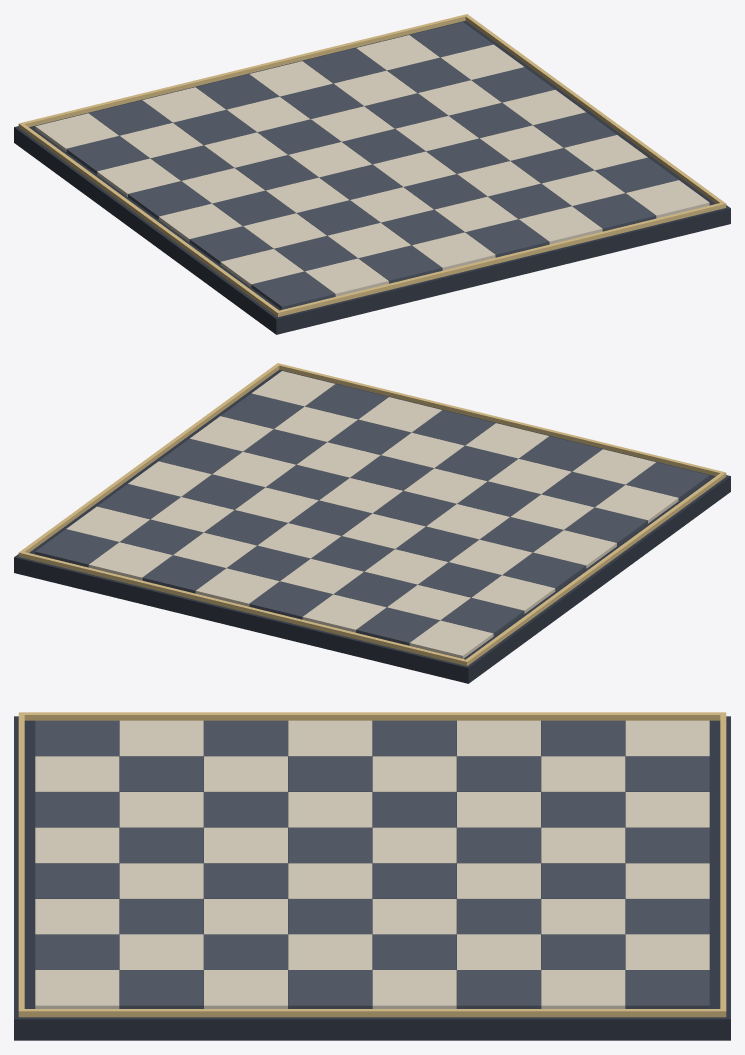
Rendered from board.glb.
The picture shows the model from 3 angles, top to bottom: view 1: azimuth 30°, elevation 25°; view 2: azimuth 150°, elevation 25°; view 3: azimuth 270°, elevation 25°; orthographic projection. The views are drawn at different scales.
Parts seen in each view (by area): view 1: board_plinth, frame_z_4.16, frame_z_-4.16, frame_x_-4.16, frame_x_4.16, square_0_7, square_6_7, square_2_7, square_4_7, square_5_7, square_1_7, square_3_7 (+57 smaller); view 2: board_plinth, frame_z_-4.16, frame_z_4.16, frame_x_-4.16, frame_x_4.16, square_0_0, square_6_0, square_2_0, square_4_0, square_5_0, square_1_0, square_3_0 (+57 smaller); view 3: board_plinth, frame_x_4.16, frame_x_-4.16, square_7_0, square_7_1, square_7_3, square_7_4, square_7_6, square_7_7, square_7_2, square_7_5, square_0_0 (+57 smaller).
Part boxes in pixels (left/top/right/bottom): board_plinth: left=14, top=20, right=730, bottom=334; frame_z_4.16: left=276, top=203, right=725, bottom=316; frame_z_-4.16: left=20, top=14, right=466, bottom=126; frame_x_-4.16: left=18, top=122, right=280, bottom=316; frame_x_4.16: left=464, top=14, right=726, bottom=207; square_0_7: left=251, top=271, right=335, bottom=309; square_6_7: left=572, top=193, right=656, bottom=231; square_2_7: left=358, top=245, right=442, bottom=283; square_4_7: left=465, top=219, right=549, bottom=257; square_5_7: left=519, top=206, right=602, bottom=244; square_1_7: left=305, top=258, right=388, bottom=296; square_3_7: left=412, top=232, right=495, bottom=270; board_plinth: left=14, top=369, right=730, bottom=683; frame_z_-4.16: left=19, top=552, right=468, bottom=665; frame_z_4.16: left=279, top=363, right=724, bottom=475; frame_x_-4.16: left=464, top=471, right=726, bottom=665; frame_x_4.16: left=18, top=363, right=280, bottom=556; square_0_0: left=409, top=620, right=493, bottom=658; square_6_0: left=88, top=542, right=172, bottom=580; square_2_0: left=302, top=594, right=386, bottom=632; square_4_0: left=195, top=568, right=279, bottom=606; square_5_0: left=142, top=555, right=225, bottom=593; square_1_0: left=356, top=607, right=439, bottom=645; square_3_0: left=249, top=581, right=332, bottom=619; board_plinth: left=14, top=716, right=730, bottom=1040; frame_x_4.16: left=19, top=1009, right=725, bottom=1017; frame_x_-4.16: left=19, top=712, right=725, bottom=720; square_7_0: left=625, top=970, right=709, bottom=1008; square_7_1: left=541, top=970, right=625, bottom=1008; square_7_3: left=372, top=970, right=456, bottom=1008; square_7_4: left=288, top=970, right=372, bottom=1008; square_7_6: left=119, top=970, right=203, bottom=1008; square_7_7: left=35, top=970, right=119, bottom=1008; square_7_2: left=457, top=970, right=540, bottom=1008; square_7_5: left=204, top=970, right=287, bottom=1008; square_0_0: left=625, top=720, right=709, bottom=756.
Size of the model in its own units: 8.5 by 0.355 by 8.5.
